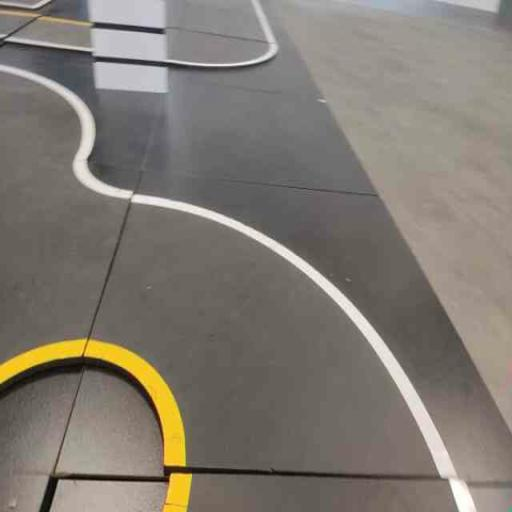left: (55, 178, 487, 479)
